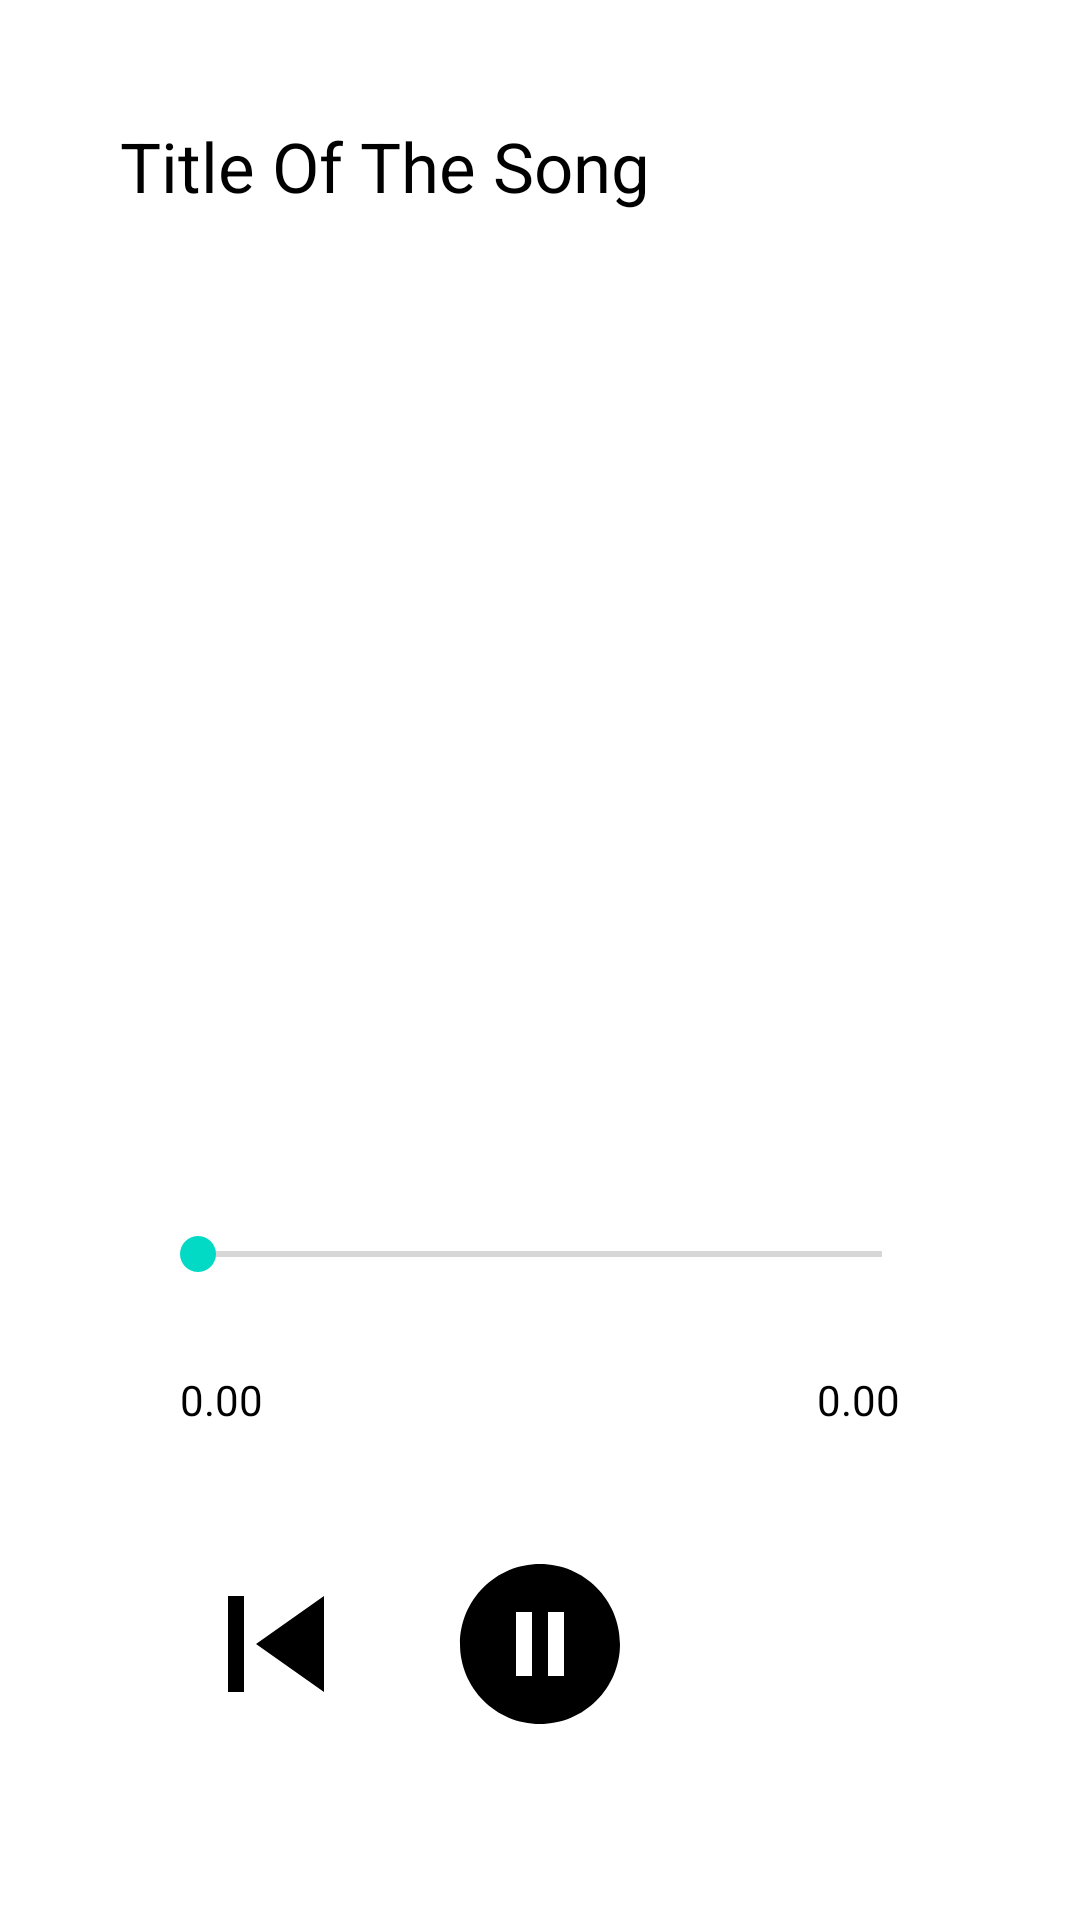

Point at icon controls on the screen. Image size 1080×1920, points as (x,y).
pause circle: (539,1644)
skip previous: (276,1644)
